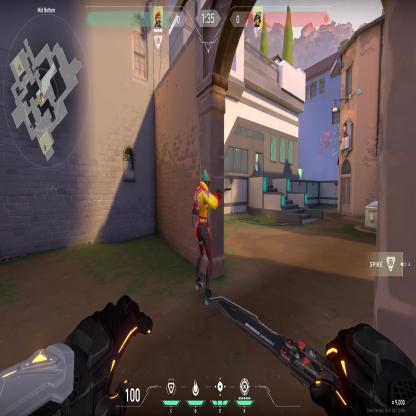enemy: (190, 168, 223, 307)
